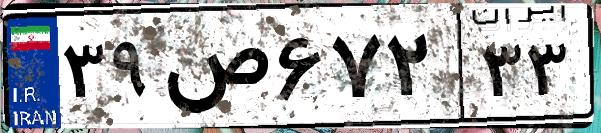2: (385, 28, 445, 110)
3: (57, 26, 110, 100), (475, 38, 525, 113), (525, 38, 570, 115)
6: (270, 28, 330, 110)
7: (330, 28, 385, 110)
9: (110, 28, 158, 98)
ص: (158, 20, 270, 120)
